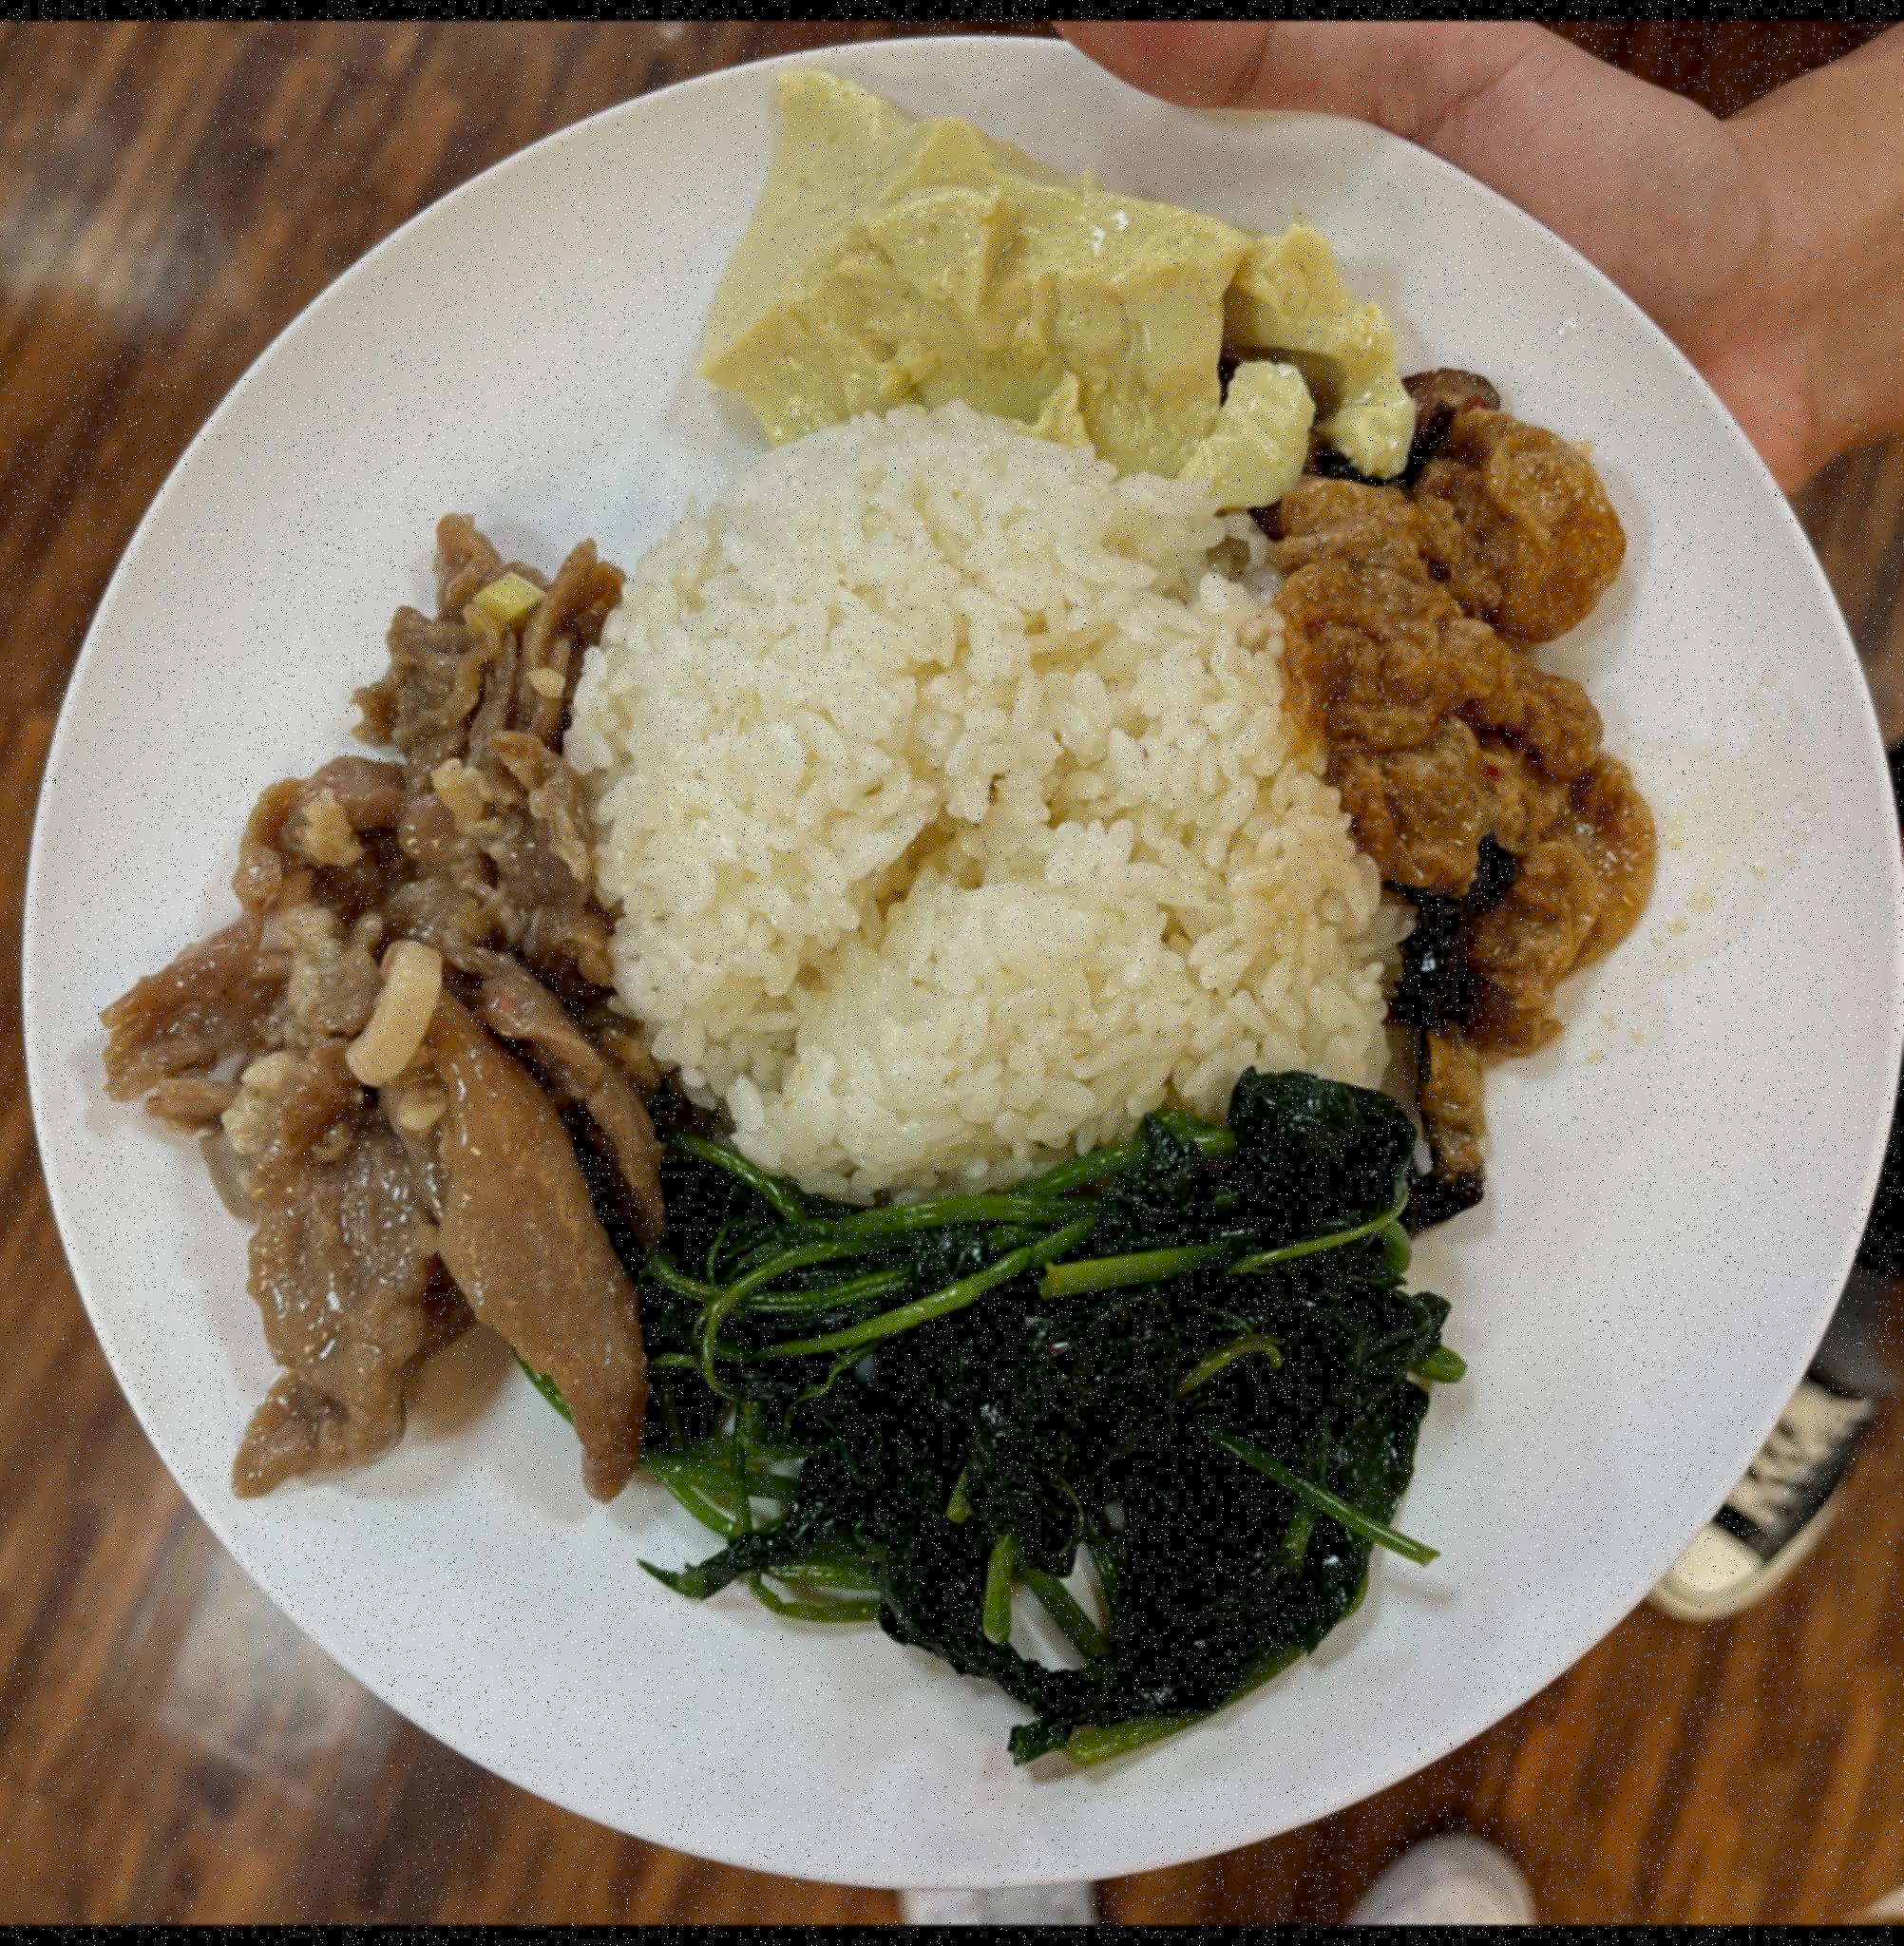plate: (29, 21, 1886, 1867)
sauteed pork: (124, 461, 652, 1533)
side dish: (642, 1106, 1488, 1735), (688, 68, 1419, 475), (1306, 395, 1734, 1049)
white rice: (566, 411, 1400, 1206)
